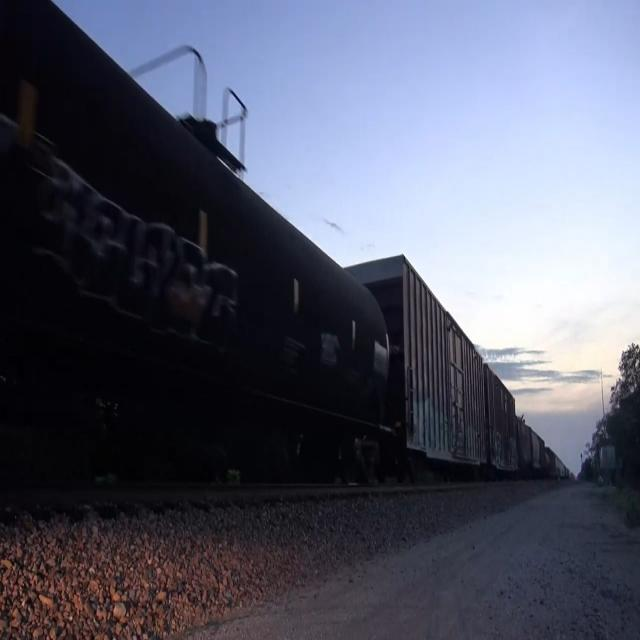boxcar: (374, 238, 489, 482)
tank: (0, 0, 398, 498)
